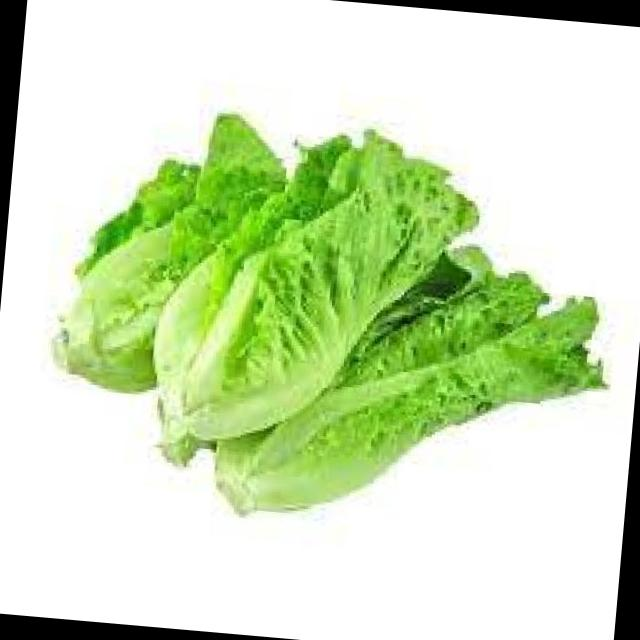Lettuce-Ready-to-Harvest: (215, 247, 599, 510), (154, 131, 475, 442), (67, 114, 286, 391)
